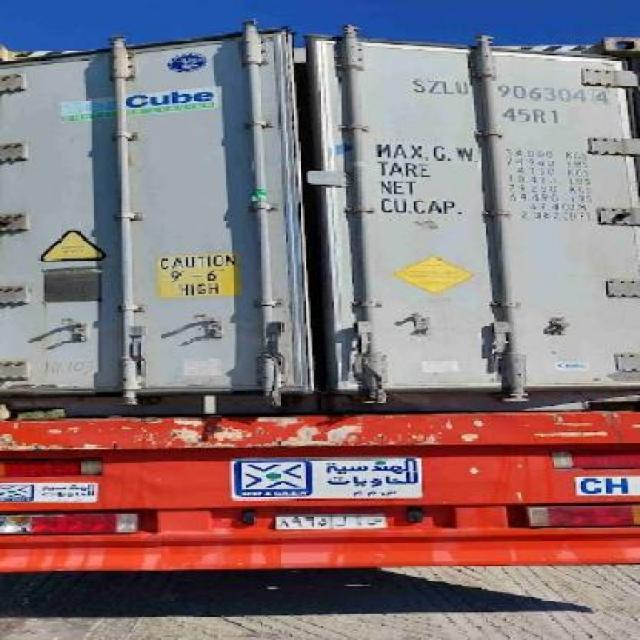ISO: (506, 110, 564, 124)
container_number: (413, 80, 612, 106)
